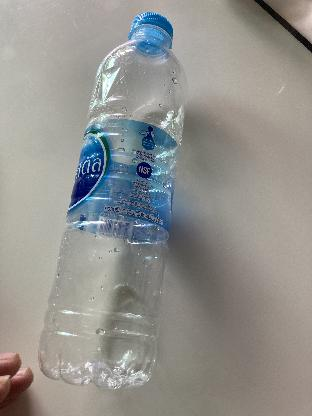Plastic Bottle: (34, 8, 192, 394)
